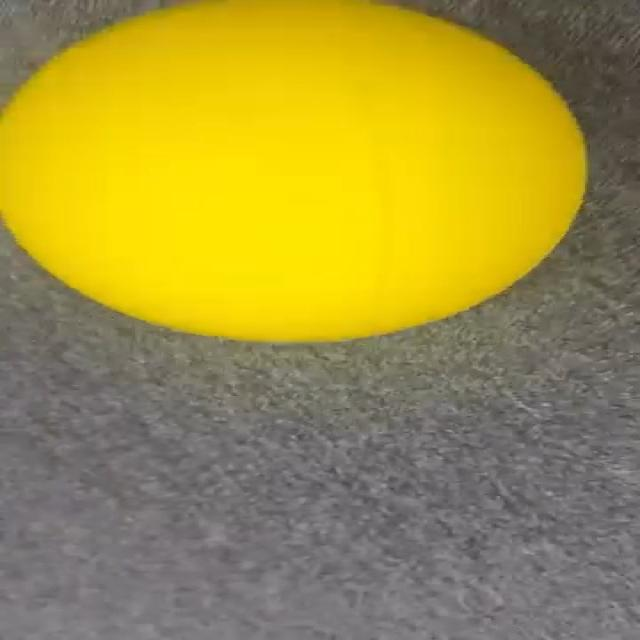Fuels: (0, 0, 585, 340)
